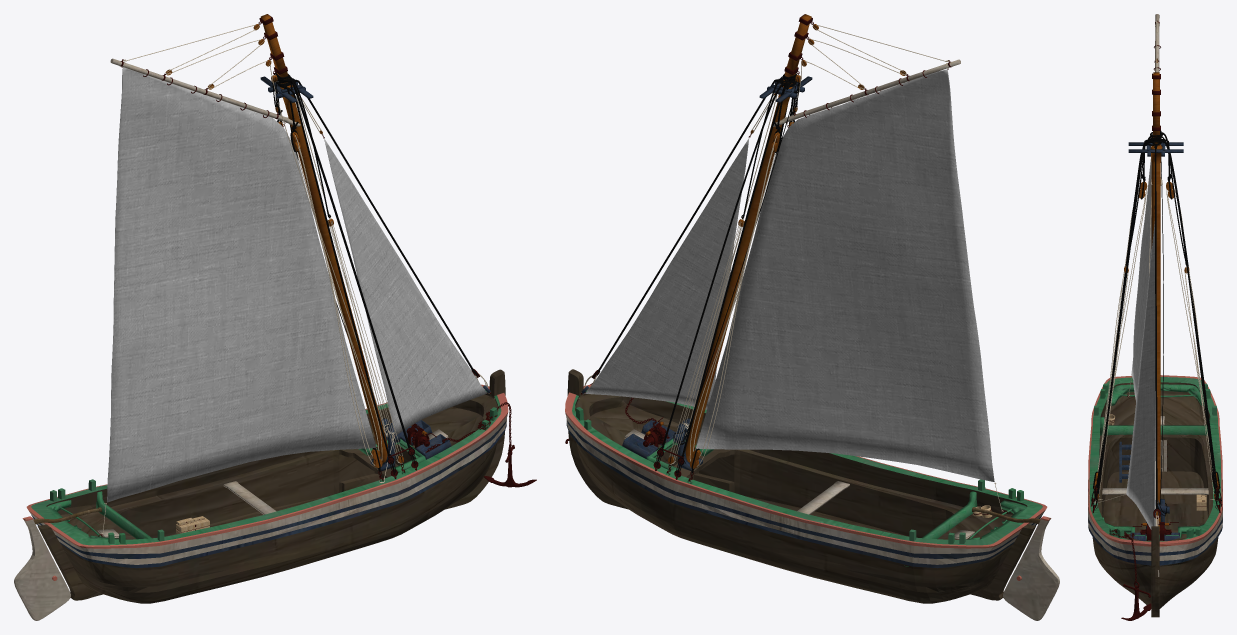
File: fragata.glb
The picture shows the model from 3 angles, left to right: view 1: azimuth 30°, elevation 25°; view 2: azimuth 150°, elevation 25°; view 3: azimuth 270°, elevation 25°; orthographic projection. The views are drawn at different scales.
Visible parts, largest first — view 1: vela_Trazeira.001, Corpo_part12, Corpo_part21, Vela Frontal.001, Corpo_part22, Circle.001_part52, basic.002, Corpo_part10, Corpo_part9, Corpo_part17, Corpo_part6, Circle.033 (+7 smaller); view 2: vela_Trazeira.001, Corpo_part21, Corpo_part12, Vela Frontal.001, Corpo_part22, basic.002, Circle.001_part52, Corpo_part11, Corpo_part9, Corpo_part17, Corpo_part1, Circle.033 (+7 smaller); view 3: Corpo_part21, Vela Frontal.001, Corpo_part12, basic.002, Corpo_part22, Circle.033, Circle.001_part52, vela_Trazeira.001, Corpo_part17, Circle.053, Circle.046, Circle.051 (+21 smaller).
Part boxes in pixels (bbox=[...]): vela_Trazeira.001: bbox=[107, 67, 376, 502]; Corpo_part12: bbox=[37, 369, 505, 603]; Corpo_part21: bbox=[46, 407, 482, 539]; Vela Frontal.001: bbox=[324, 138, 487, 435]; Corpo_part22: bbox=[31, 390, 501, 545]; Circle.001_part52: bbox=[280, 85, 387, 463]; basic.002: bbox=[47, 368, 491, 539]; Corpo_part10: bbox=[52, 415, 507, 553]; Corpo_part9: bbox=[14, 519, 70, 620]; Corpo_part17: bbox=[26, 384, 508, 548]; Corpo_part6: bbox=[57, 418, 506, 564]; Circle.033: bbox=[295, 135, 402, 465]; vela_Trazeira.001: bbox=[695, 69, 994, 481]; Corpo_part21: bbox=[590, 397, 1027, 539]; Corpo_part12: bbox=[567, 369, 1035, 603]; Vela Frontal.001: bbox=[585, 138, 749, 409]; Corpo_part22: bbox=[572, 390, 1042, 545]; basic.002: bbox=[581, 370, 1026, 566]; Circle.001_part52: bbox=[685, 84, 792, 462]; Corpo_part11: bbox=[565, 414, 1020, 553]; Corpo_part9: bbox=[1003, 519, 1059, 620]; Corpo_part17: bbox=[565, 384, 1047, 548]; Corpo_part1: bbox=[566, 419, 1016, 564]; Circle.033: bbox=[669, 135, 777, 466]; Corpo_part21: bbox=[1097, 382, 1213, 538]; Vela Frontal.001: bbox=[1126, 221, 1155, 529]; Corpo_part12: bbox=[1092, 526, 1218, 617]; basic.002: bbox=[1100, 374, 1210, 541]; Corpo_part22: bbox=[1089, 377, 1221, 541]; Circle.033: bbox=[1095, 189, 1217, 500]; Circle.001_part52: bbox=[1150, 144, 1162, 534]; vela_Trazeira.001: bbox=[1131, 157, 1151, 401]; Corpo_part17: bbox=[1088, 375, 1222, 546]; Circle.053: bbox=[1097, 133, 1162, 494]; Circle.046: bbox=[1152, 142, 1160, 512]; Circle.051: bbox=[1153, 139, 1216, 493].
Size of the model in its own units: 2221 by 2310 by 597.
13 materials, 11 textured.
